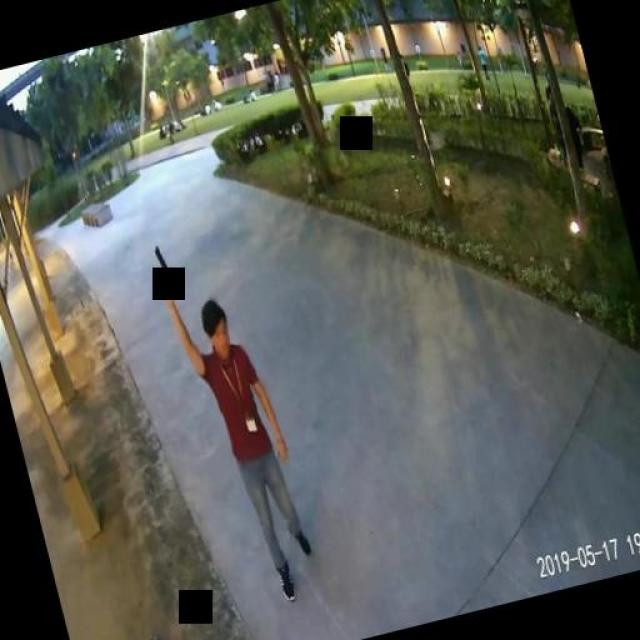gun: (148, 240, 178, 300)
